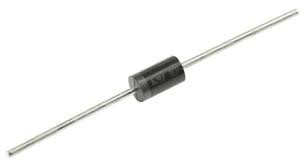diode: (85, 30, 207, 128)
